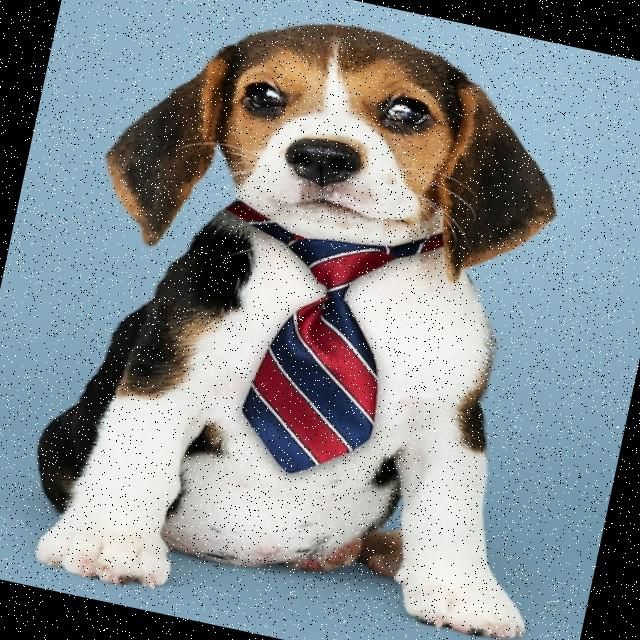Dog: (9, 0, 640, 640)
